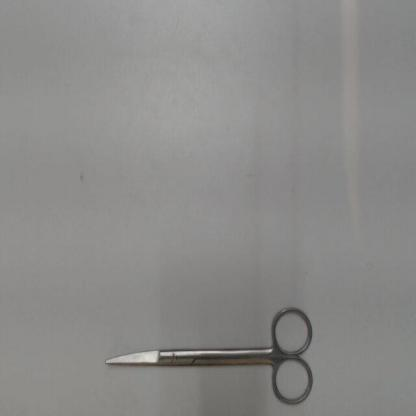Curved Mayo Scissors: (101, 302, 316, 411)
